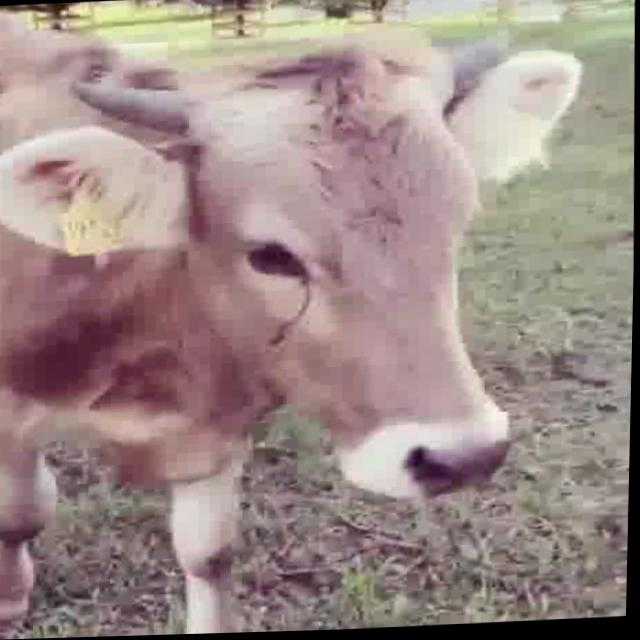cowFace: (1, 26, 610, 520)
